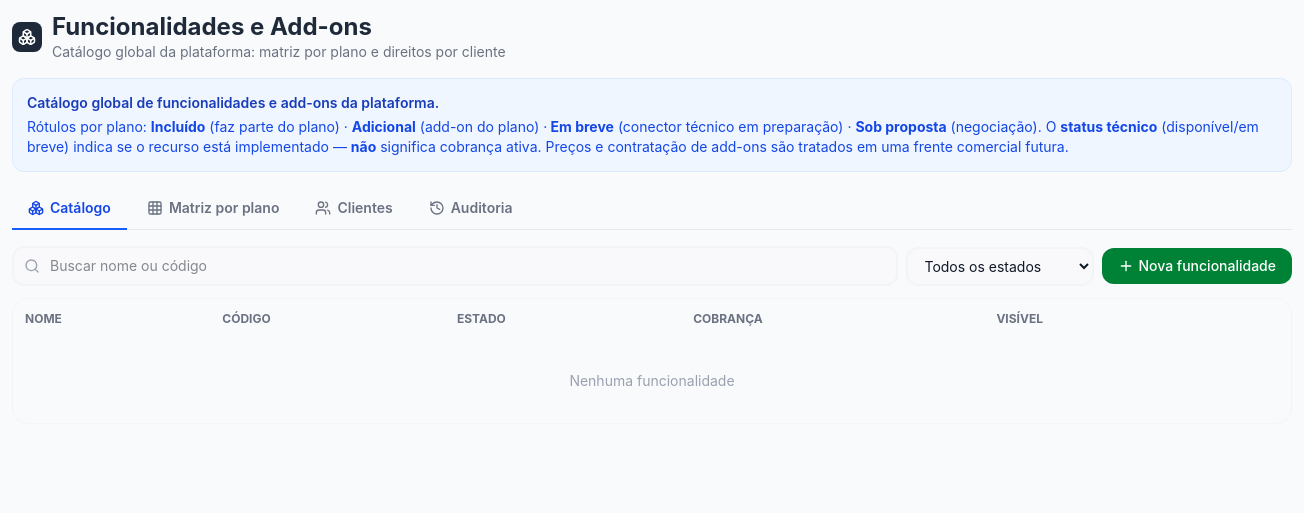
Test: PainelFuncionalidades — matriz (versão esperada + 409) › 409 → alerta de conflito, rascunho preservado, publish bloqueado, sem sobrescrita
Click the button "Matriz por plano" at x=213, y=209, box [131,188,295,230]
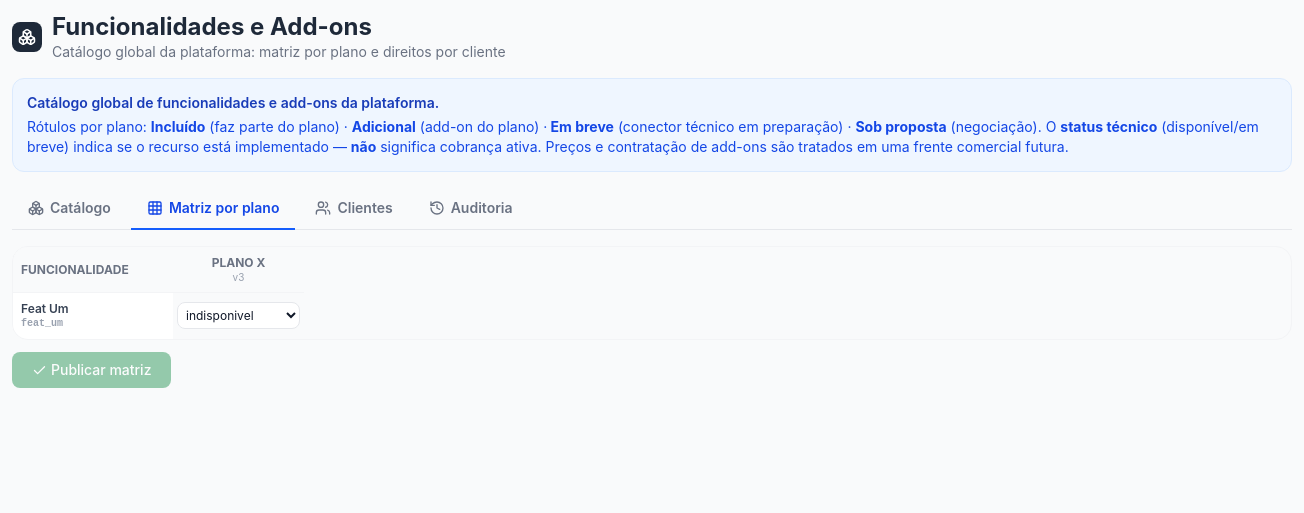
Expected: the column heading "Plano X" is shown, [212,255,265,270]
Select "incluida" in the dropdown at x=238, y=316, box [177,302,300,330]
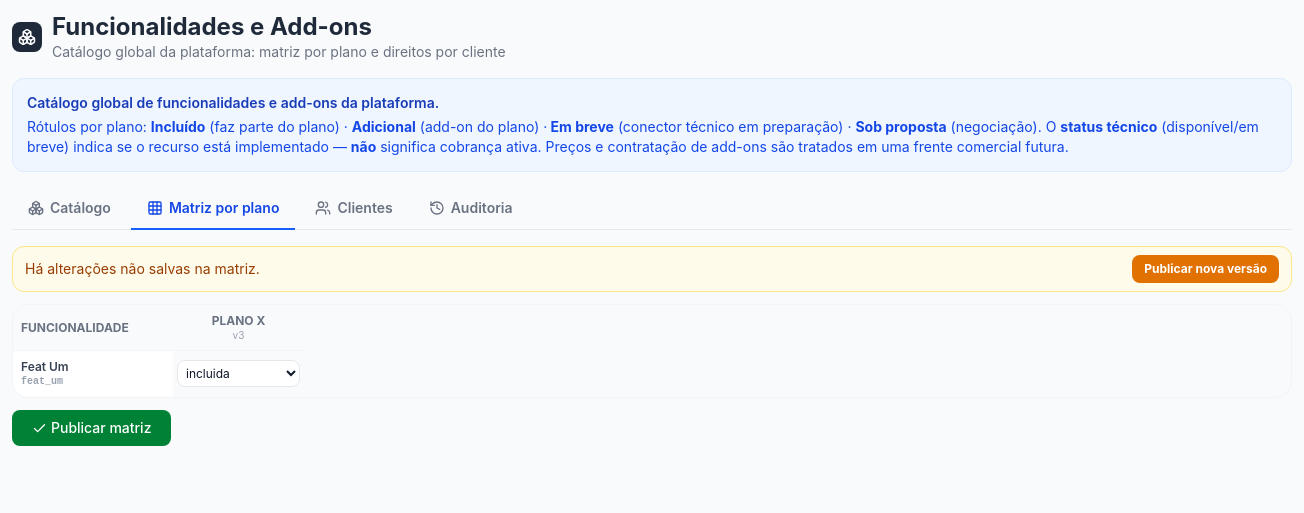
Click the button "Publicar matriz" at x=92, y=428, box [12,410,172,446]
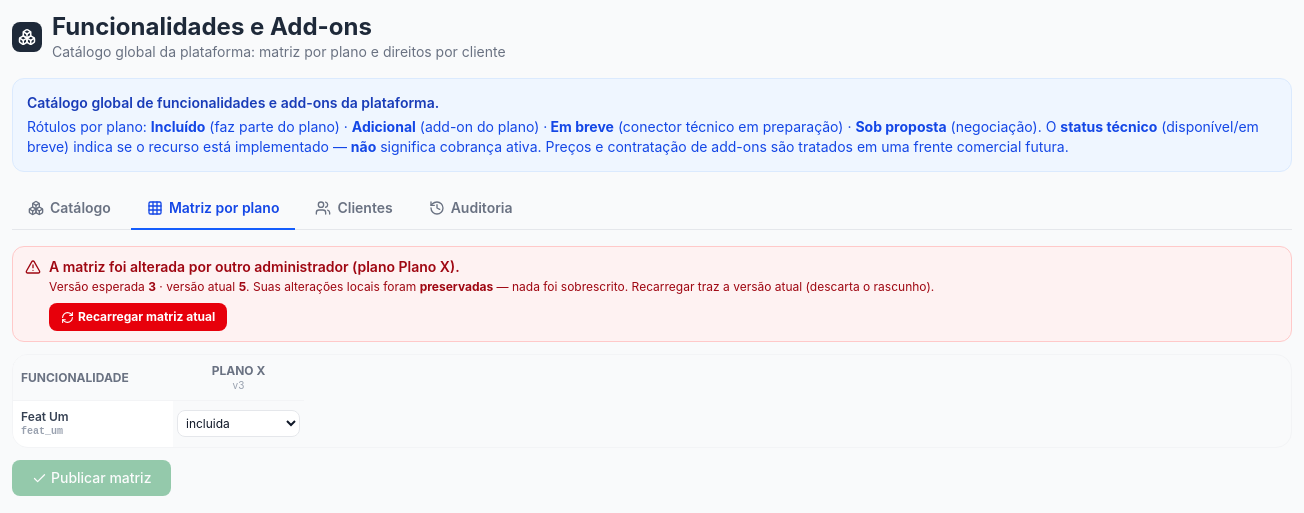
Expected: the message is shown, [12,246,1292,342]
Expected: the message shows "alterada por outro administrador", [49,258,348,275]
Expected: the message shows "3", [148,279,156,294]
